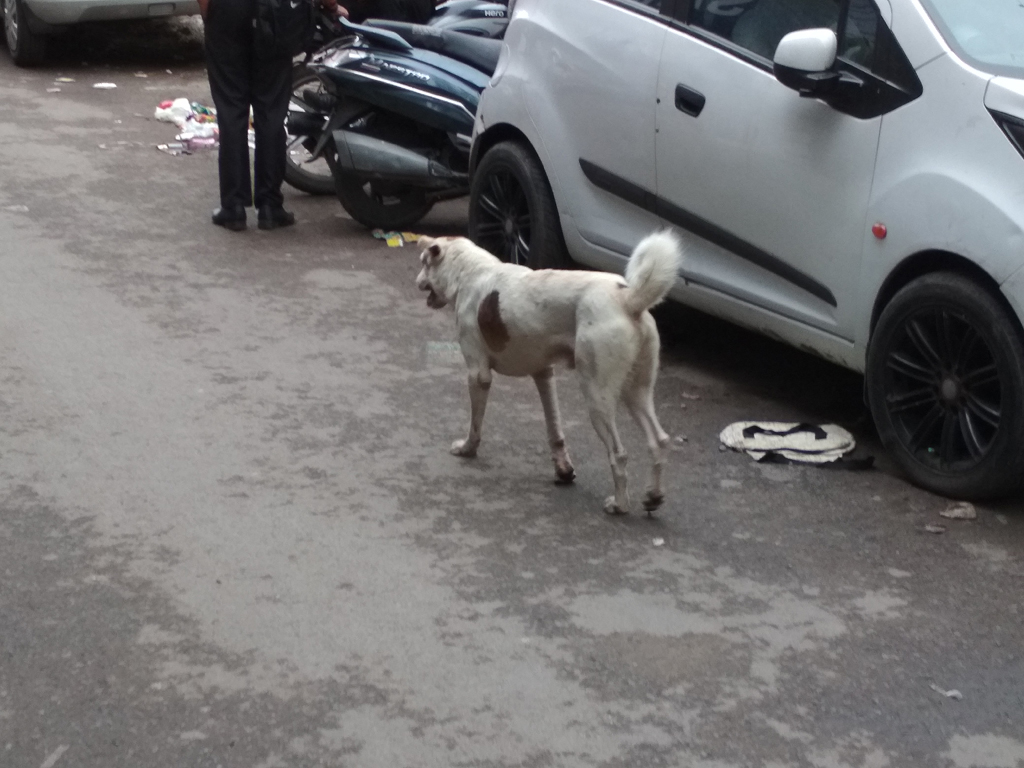dog: (414, 225, 684, 514)
